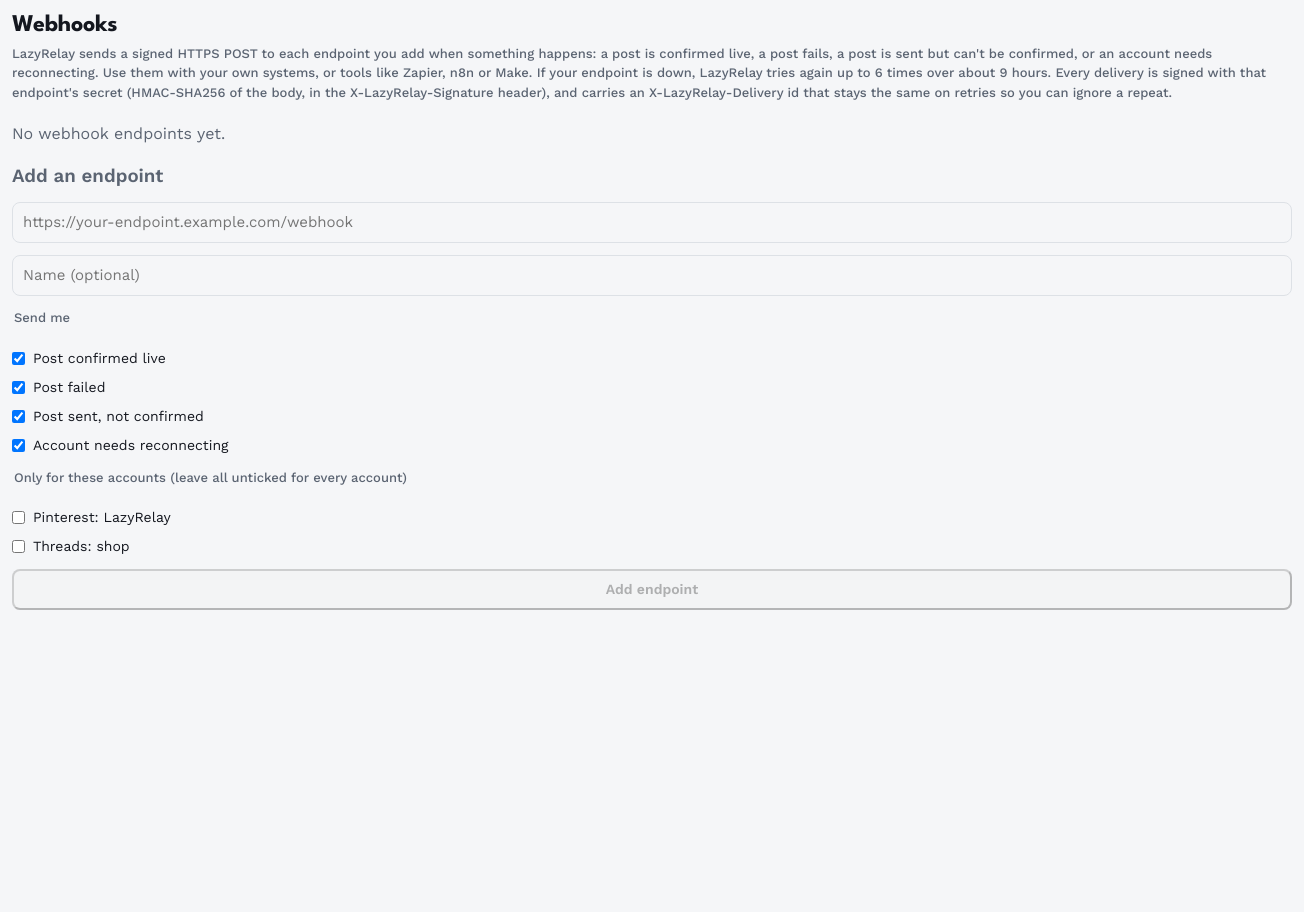
Scenario: WebhooksSection › adds an endpoint for all events by default and shows the secret once
Check: the text "No webhook endpoints yet." is shown, box [12,124,225,143]
Type "https://hooks.example.org/in" into the field named "Endpoint URL". click: point(652, 223)
box: [12,202,1292,243]
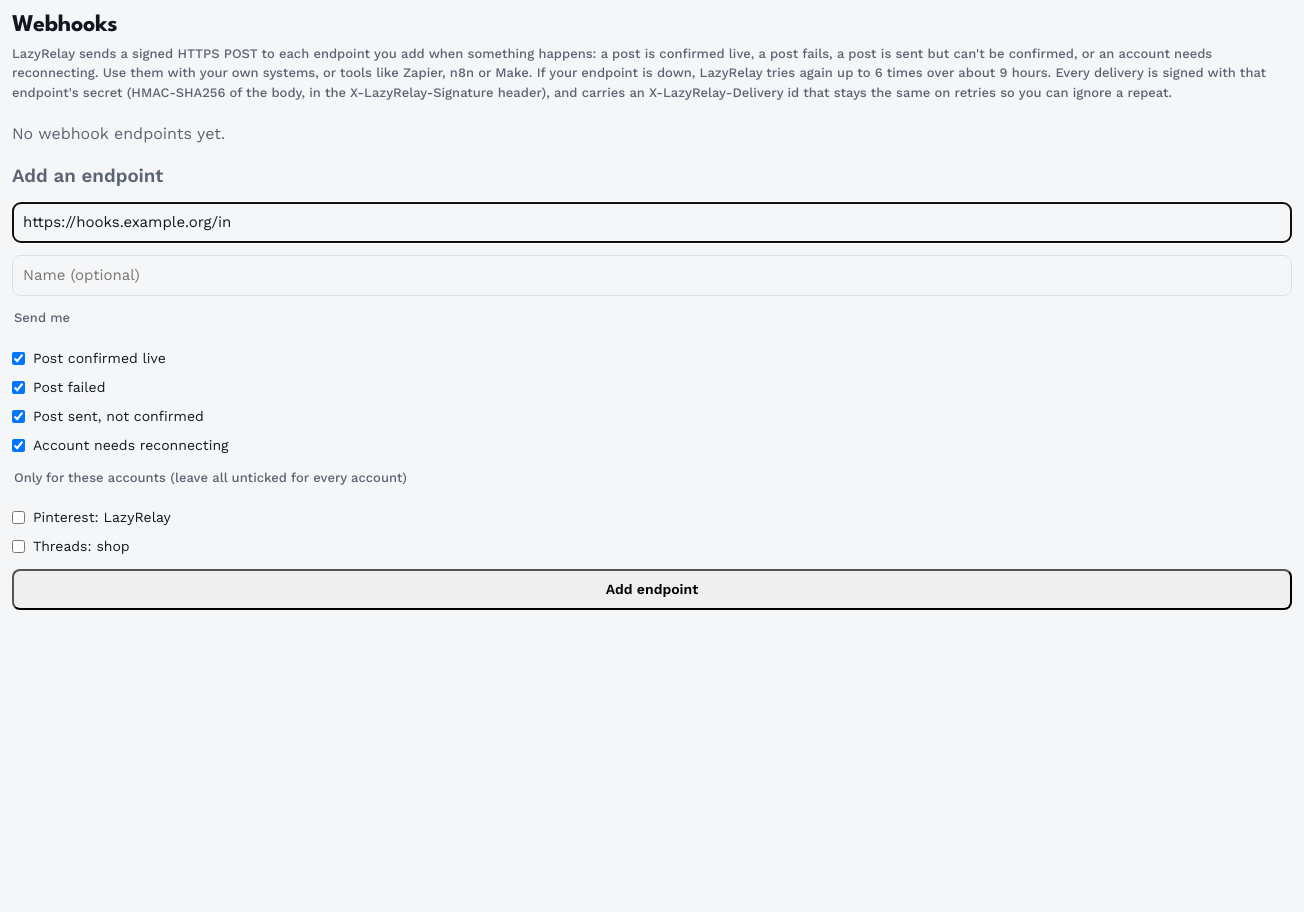
Click the button "Add endpoint". click: point(652, 590)
box: [12,569,1292,610]
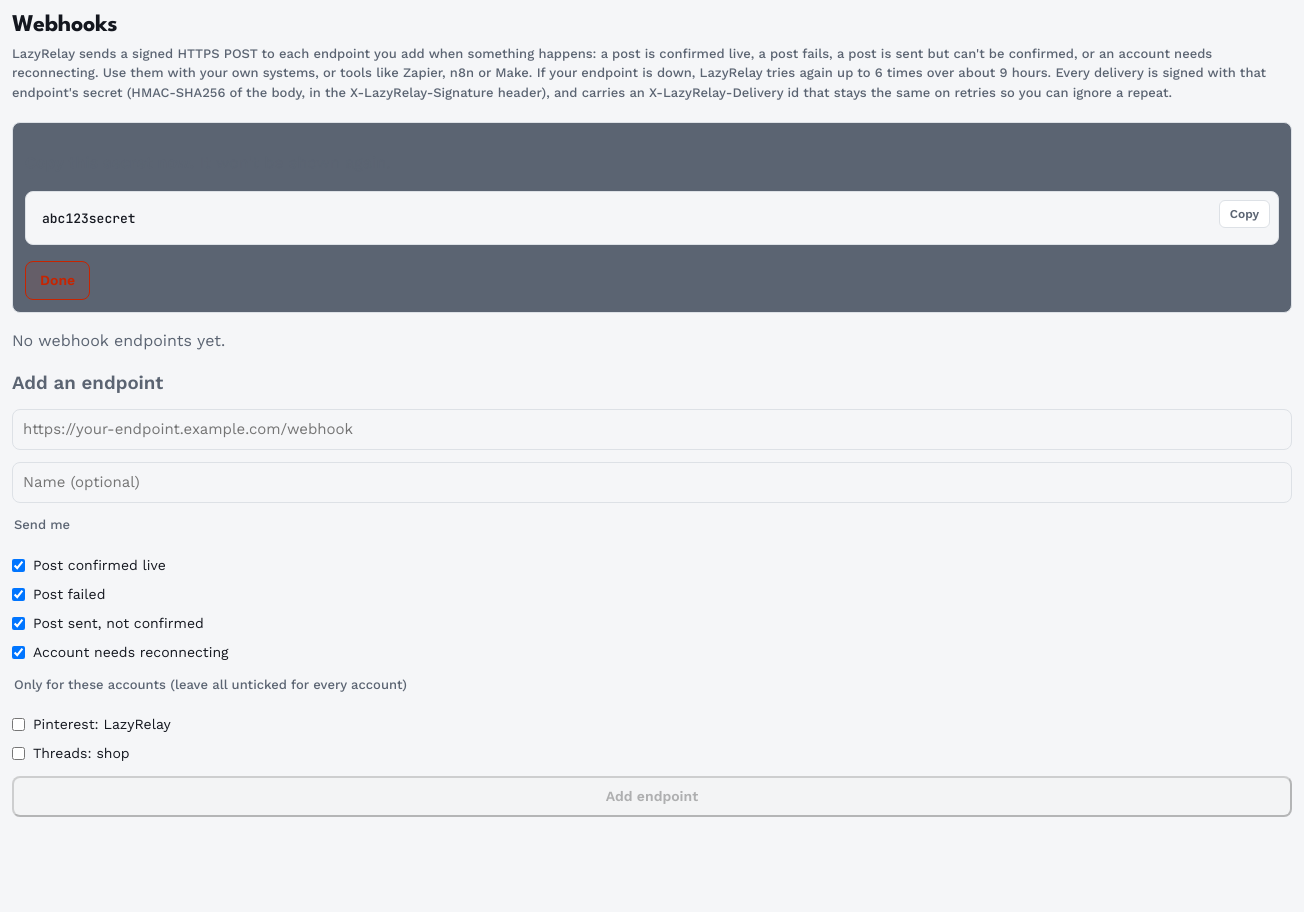
Check: the text "abc123secret" is shown, box [42,210,136,227]
Click the button "Done". click: point(58, 281)
box: [25,261,90,300]
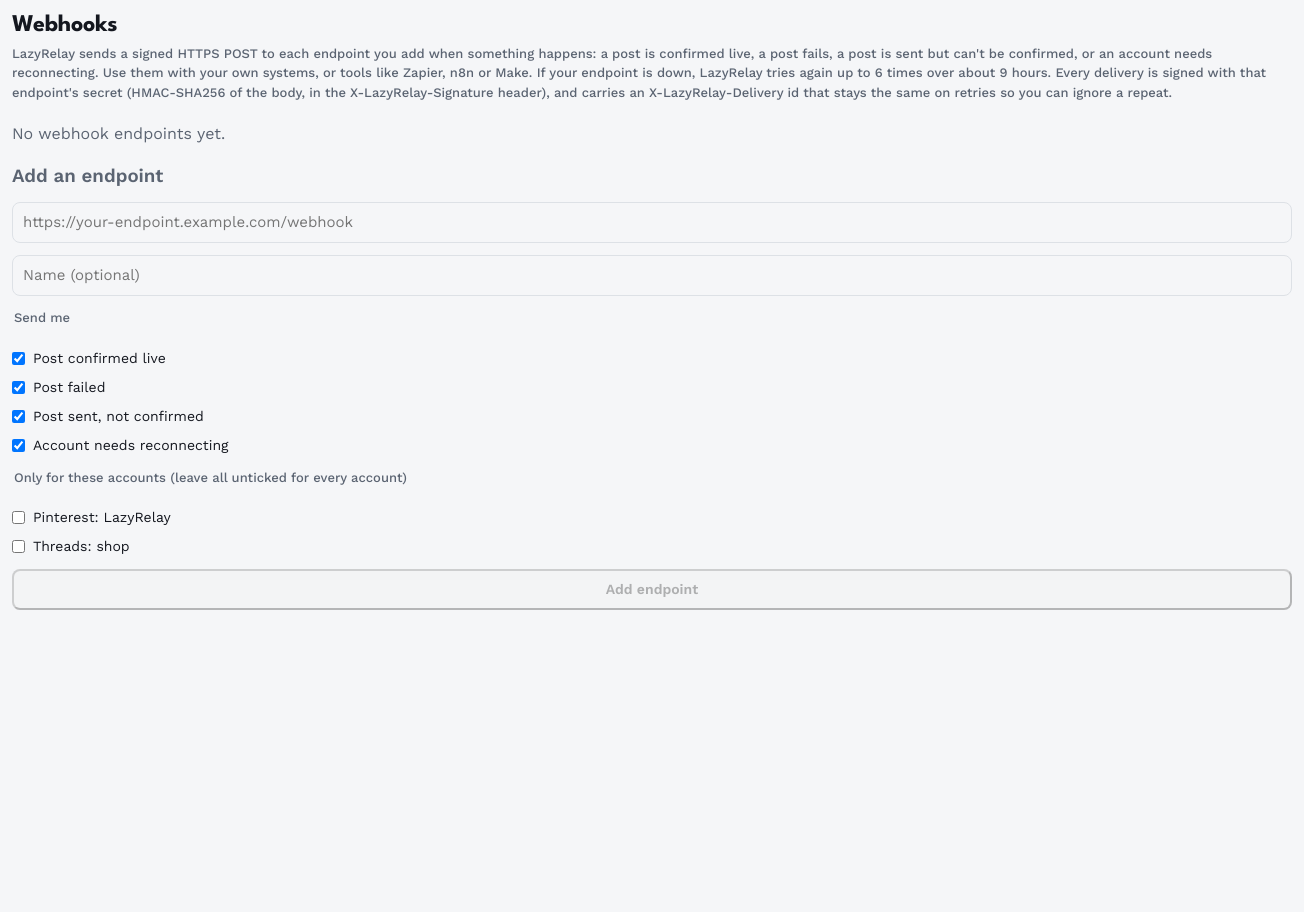
Check: the text "abc123secret" is gone
